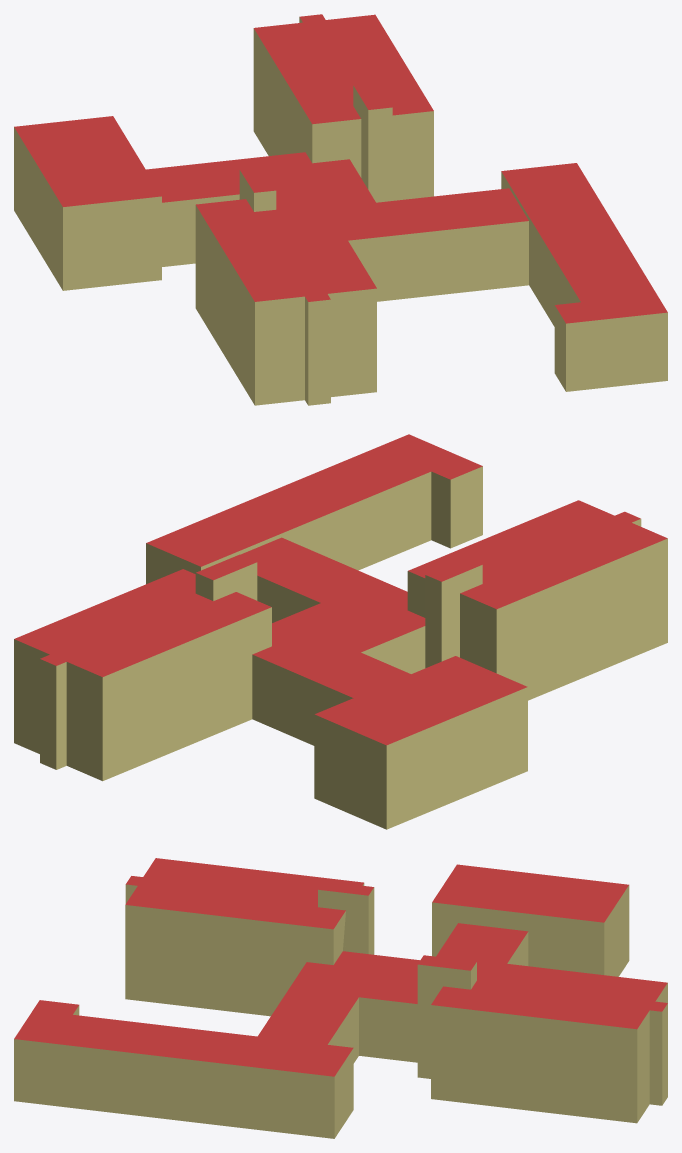
3 renders of one model, top to bottom at view 1: azimuth 30°, elevation 25°; view 2: azimuth 150°, elevation 25°; view 3: azimuth 270°, elevation 25°, orthographic. The views are drawn at different scales.
Bounding box in the file's own units: 64.75 × 90.24 × 17.2.
